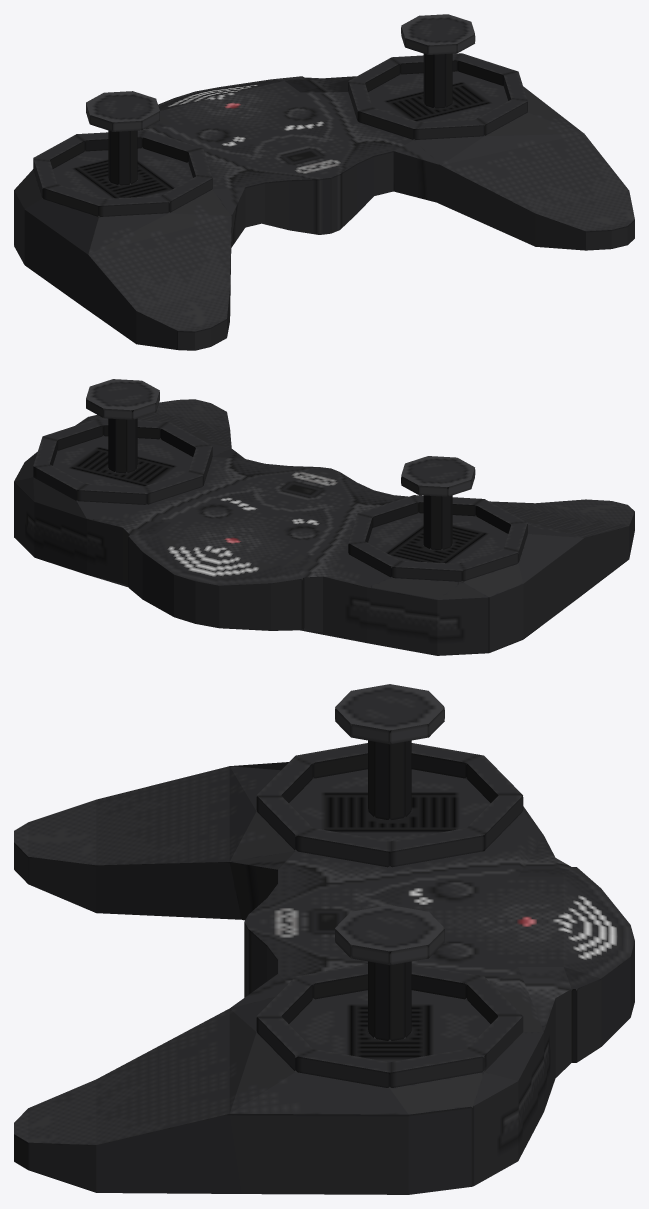
File: RC_Controller.fbx
3 renders of one model, top to bottom at view 1: azimuth 30°, elevation 25°; view 2: azimuth 150°, elevation 25°; view 3: azimuth 270°, elevation 25°, orthographic. The views are drawn at different scales.
Parts seen in each view (by area): view 1: RC_Controller; view 2: RC_Controller; view 3: RC_Controller.
Boxes of the visible parts, box(x1,y1,x2,y2) form: RC_Controller: box(14, 14, 634, 350); RC_Controller: box(14, 379, 634, 655); RC_Controller: box(14, 684, 634, 1194).
Bounding box in the file's own units: 500 × 135 × 376.
1 material, 1 textured.
